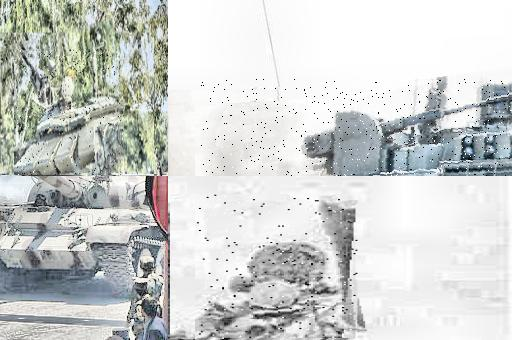tanks: (199, 197, 357, 340), (306, 81, 512, 177), (1, 177, 167, 295), (16, 50, 122, 177), (126, 176, 155, 177)
